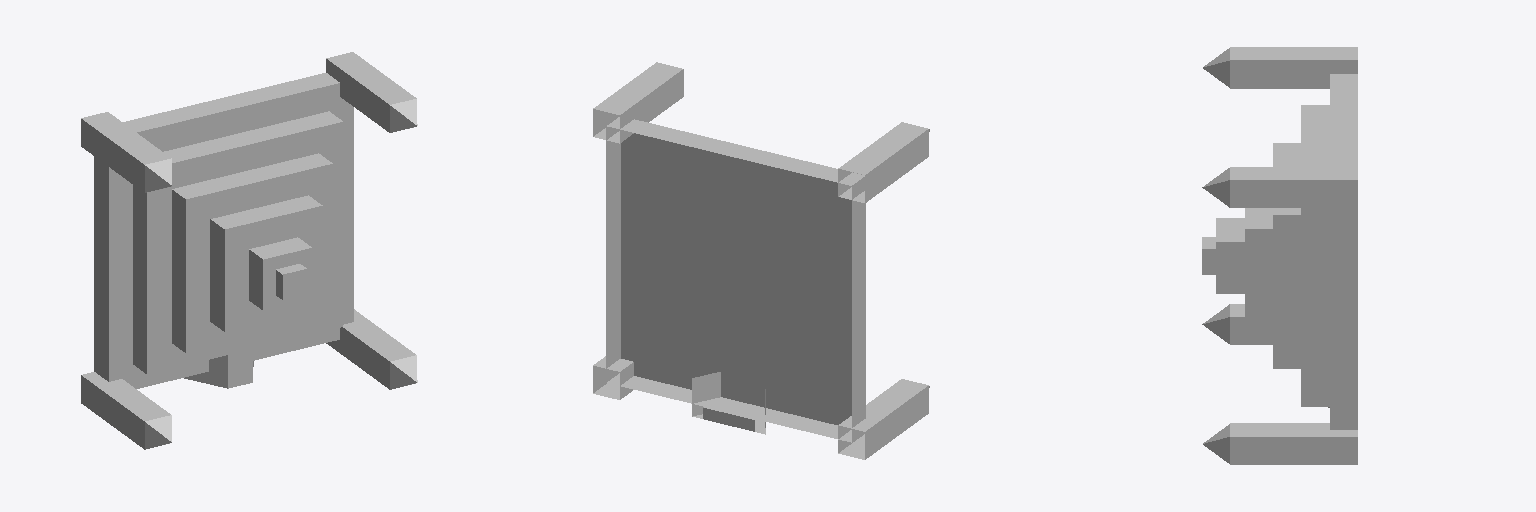
Rendered from temple.obj.
The picture shows the model from 3 angles: view 1: azimuth 30°, elevation 25°; view 2: azimuth 150°, elevation 25°; view 3: azimuth 270°, elevation 25°; orthographic projection.
Parts seen in each view (by area): view 1: Cube; view 2: Cube; view 3: Cube.
Part boxes in pixels (left/top/right/bottom): Cube: left=81, top=52, right=417, bottom=449; Cube: left=593, top=62, right=929, bottom=459; Cube: left=1202, top=47, right=1357, bottom=464.
Size of the model in its own units: 2.22 by 2.22 by 1.1.